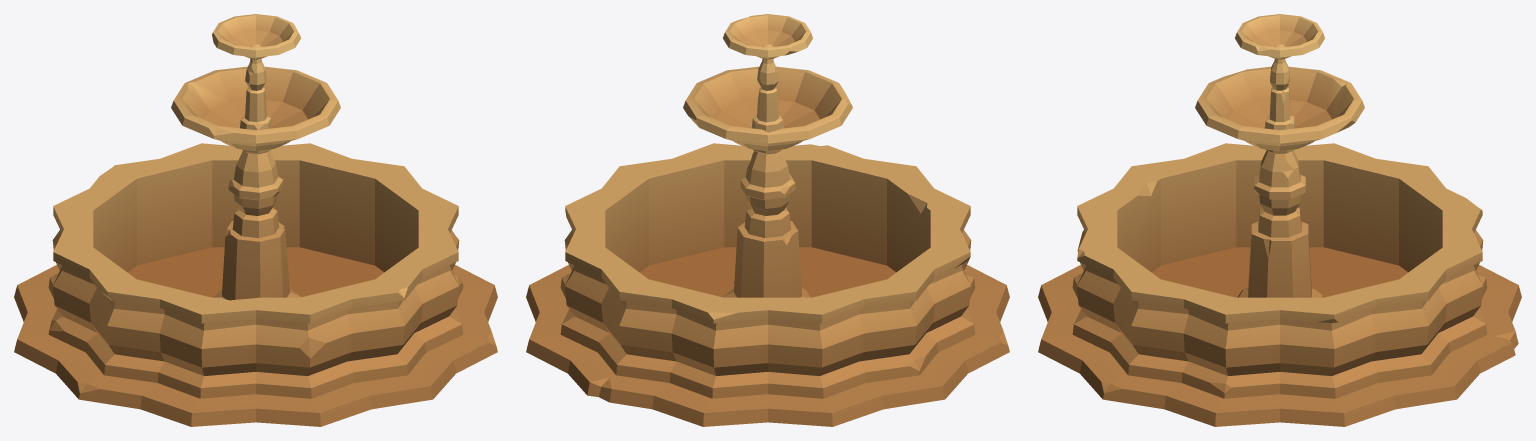
Rendered from LP_Fountain_H.fbx.
3 views of the same model, side by side, from view 1: azimuth 30°, elevation 25°; view 2: azimuth 150°, elevation 25°; view 3: azimuth 270°, elevation 25° (orthographic).
Visible parts, largest first — view 1: LP_Fountain_H; view 2: LP_Fountain_H; view 3: LP_Fountain_H.
Boxes of the visible parts, left/top/right/bottom form: LP_Fountain_H: left=14, top=14, right=497, bottom=426; LP_Fountain_H: left=526, top=14, right=1009, bottom=426; LP_Fountain_H: left=1038, top=14, right=1521, bottom=426.
Size of the model in its own units: 471 by 315 by 471.
